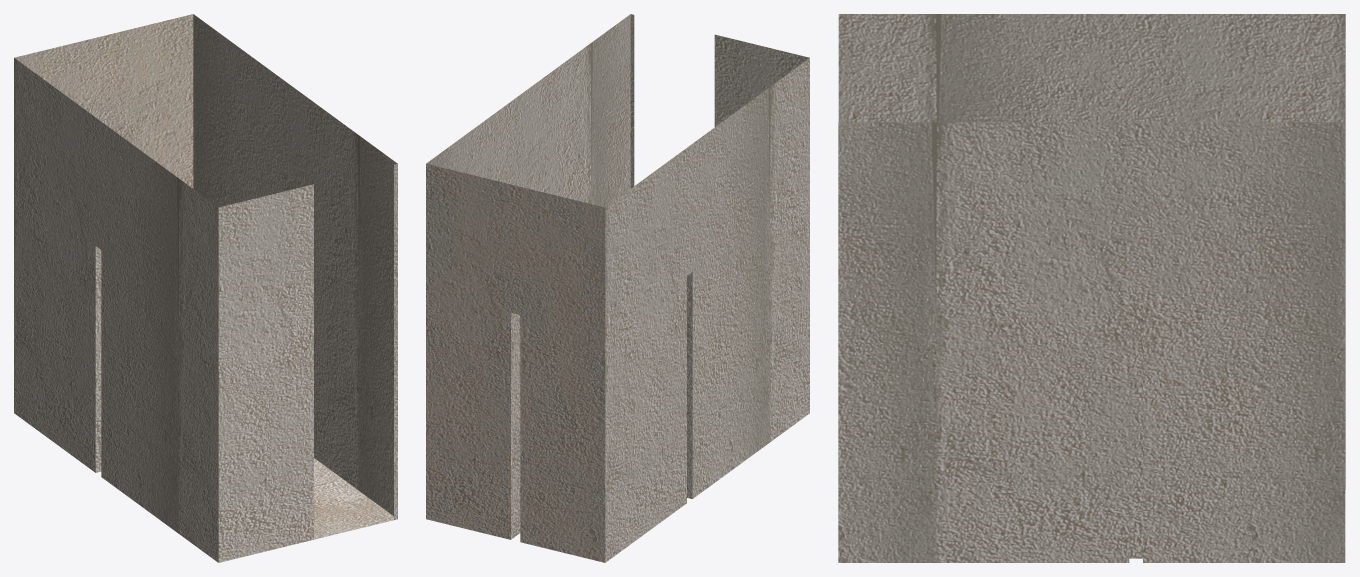
File: COM010.obj
The picture shows the model from 3 angles, left to right: view 1: azimuth 30°, elevation 25°; view 2: azimuth 150°, elevation 25°; view 3: azimuth 270°, elevation 25°; orthographic projection. The views are drawn at different scales.
Parts seen in each view (by area): view 1: Mesh1 COM010 Model; view 2: Mesh1 COM010 Model; view 3: Mesh1 COM010 Model.
Part boxes in pixels (left/top/right/bottom): Mesh1 COM010 Model: left=14, top=14, right=397, bottom=562; Mesh1 COM010 Model: left=426, top=14, right=809, bottom=562; Mesh1 COM010 Model: left=838, top=14, right=1345, bottom=562.
Size of the model in its own units: 1.9 by 3.6 by 3.76.
3 materials, 2 textured.
